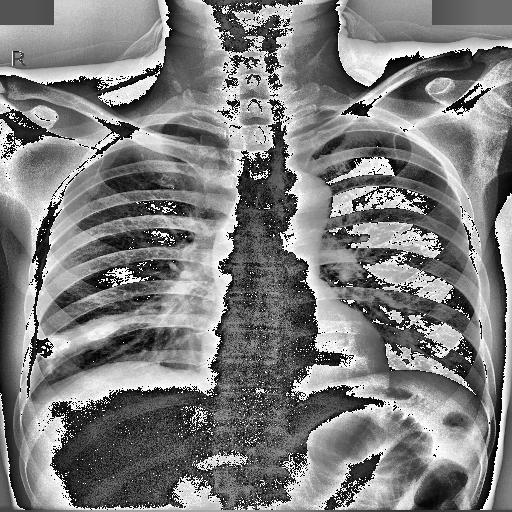10- Pleural effusion: (24, 393, 43, 407)
11- Pleural thickening: (24, 393, 43, 407)
13- Pulmonary fibrosis: (36, 308, 119, 376)
2- Calcification: (36, 308, 119, 376), (30, 319, 118, 374)
9- Other lesion: (30, 319, 118, 374), (38, 318, 117, 360)
